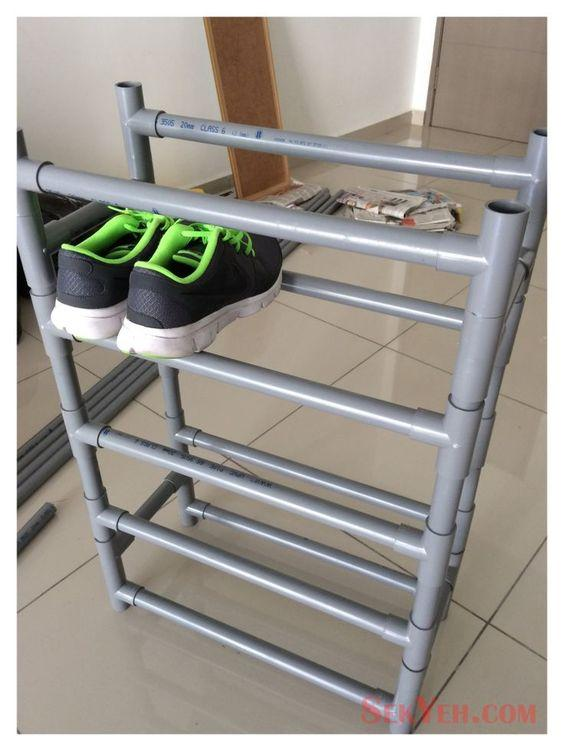PVC: (384, 200, 532, 738), (115, 109, 564, 187), (74, 414, 127, 624)
